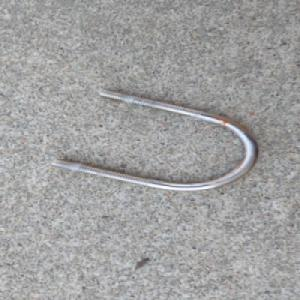ClampPart: (50, 88, 260, 193)
